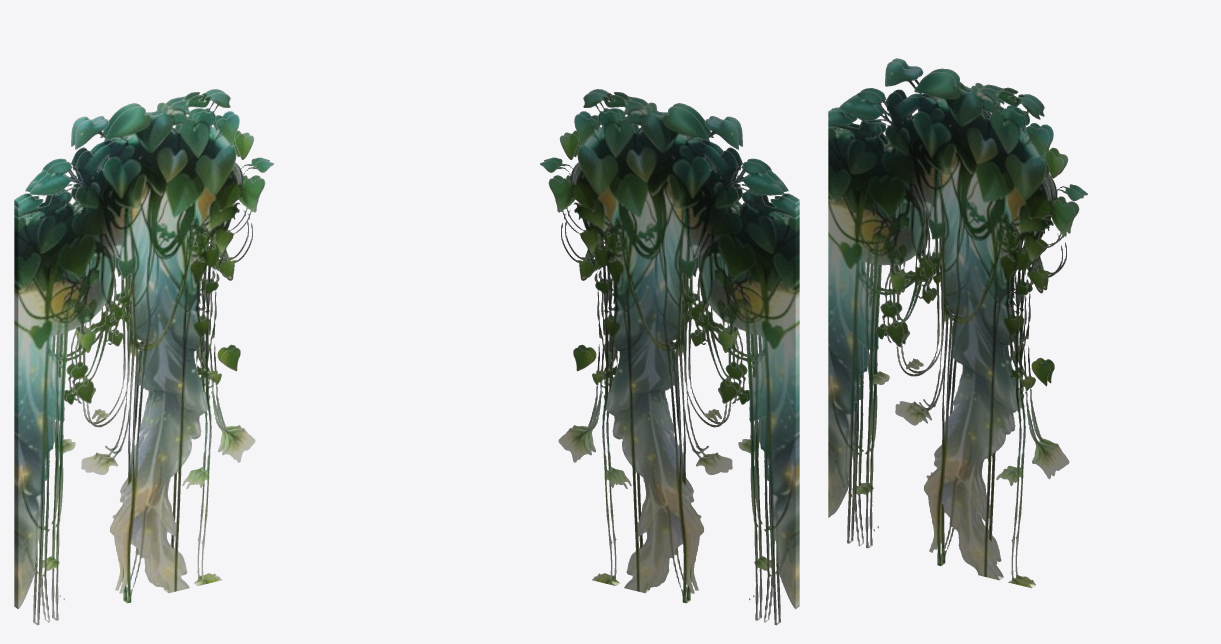
Rendered from greenglow2.fbx.
3 renders of one model, left to right at view 1: azimuth 30°, elevation 25°; view 2: azimuth 150°, elevation 25°; view 3: azimuth 330°, elevation 25°, orthographic.
Parts seen in each view (by area): view 1: pPlane22; view 2: pPlane22; view 3: pPlane22.
Part boxes in pixels (x1,y1,x2,y2): pPlane22: (14,89,273,625); pPlane22: (540,89,799,625); pPlane22: (828,58,1087,588).
Size of the model in its own units: 729 by 971 by 13.77.
